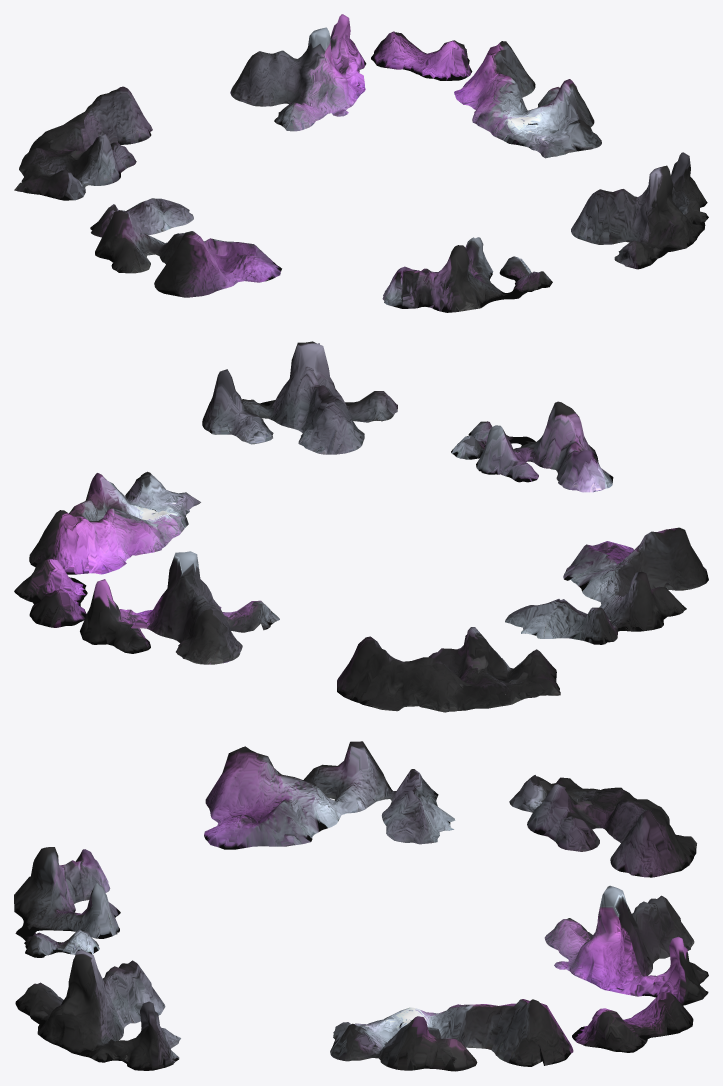
File: mountain-compressed.glb
3 views of the same model, one above another, from view 1: azimuth 30°, elevation 25°; view 2: azimuth 150°, elevation 25°; view 3: azimuth 270°, elevation 25° (orthographic). The views are drawn at different scales.
Parts seen in each view (by area): view 1: mountain.001; view 2: mountain.001; view 3: mountain.001.
Part boxes in pixels (x1=…): mountain.001: x1=14, y1=14, x2=708, y2=312; mountain.001: x1=14, y1=341, x2=708, y2=712; mountain.001: x1=14, y1=741, x2=708, y2=1071.
Bounding box in the file's own units: 99.58 × 12.16 × 99.38.
1 material, 1 textured.
